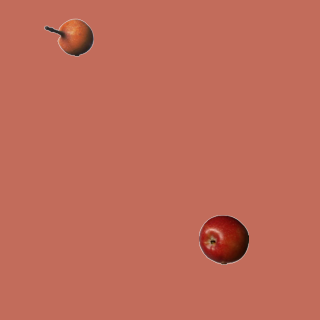Apple Braeburn: (198, 214, 248, 264)
Granadilla: (43, 12, 93, 62)
